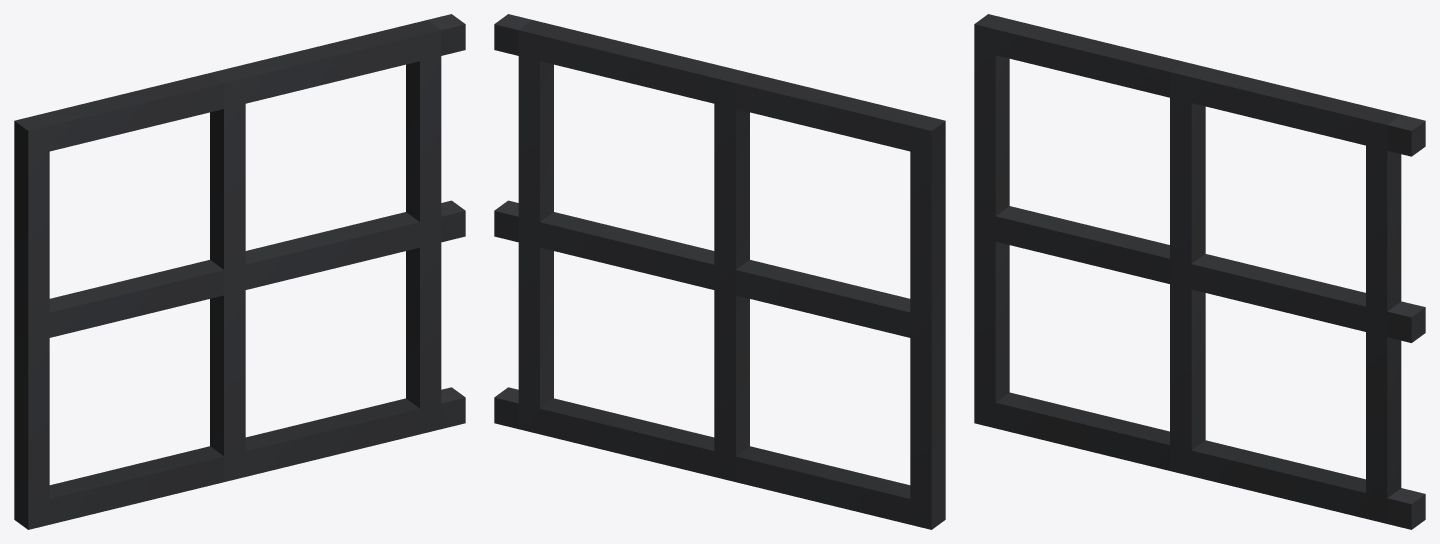
File: Wall_SteelColumn4.fbx
3 renders of one model, left to right at view 1: azimuth 30°, elevation 25°; view 2: azimuth 150°, elevation 25°; view 3: azimuth 330°, elevation 25°, orthographic.
Visible parts, largest first — view 1: Wall_SteelColumn28; view 2: Wall_SteelColumn28; view 3: Wall_SteelColumn28.
Part boxes in pixels (x1,y1,x2,y2): Wall_SteelColumn28: [14, 14, 465, 529]; Wall_SteelColumn28: [494, 14, 945, 529]; Wall_SteelColumn28: [974, 14, 1425, 529].
Bounding box in the file's own units: 0.7198 × 0.6273 × 0.04.
Materials: 1 (1 with a texture image).
